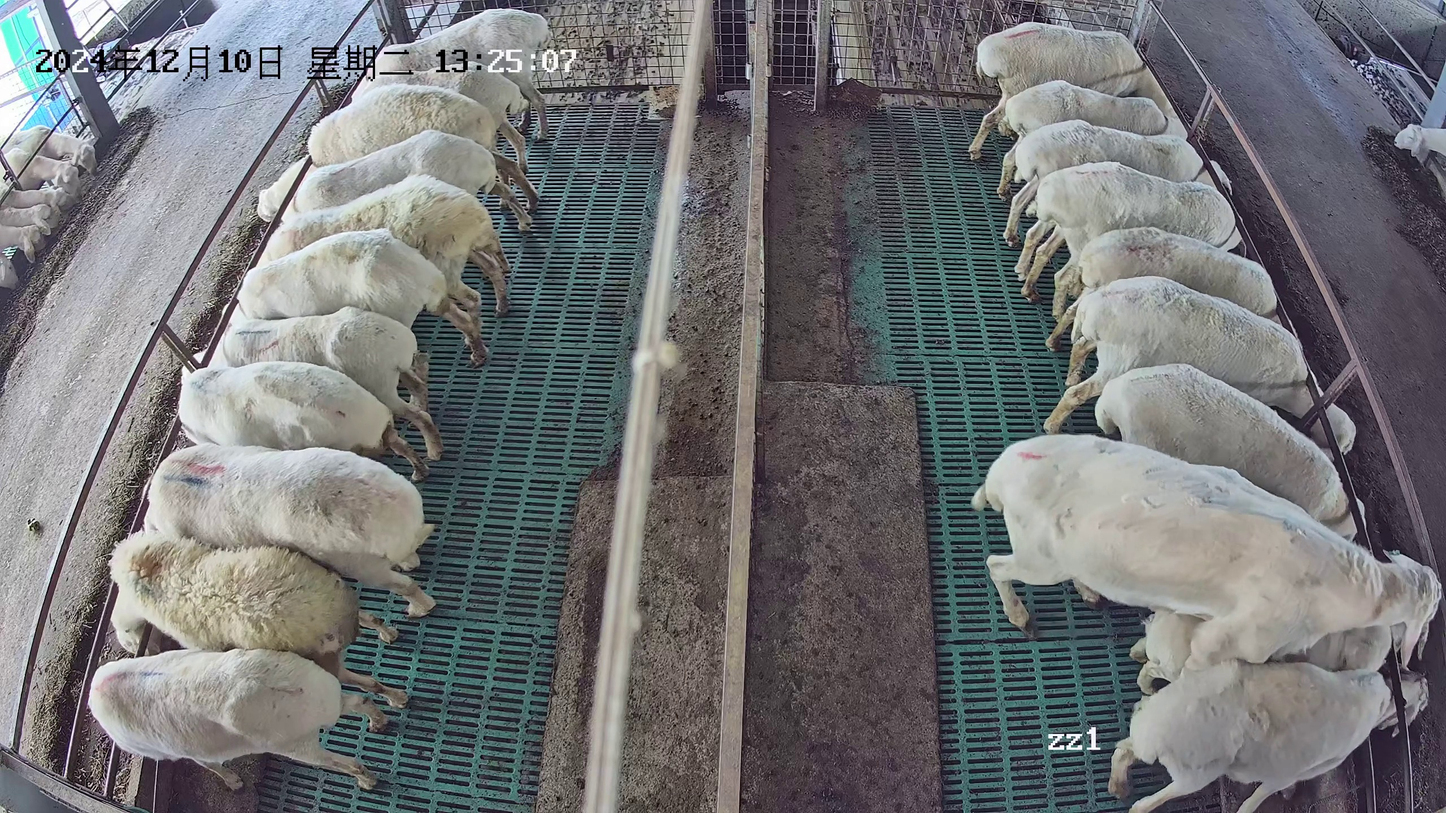Smounting: (970, 430, 1443, 697)
mounted: (1126, 606, 1430, 694)
